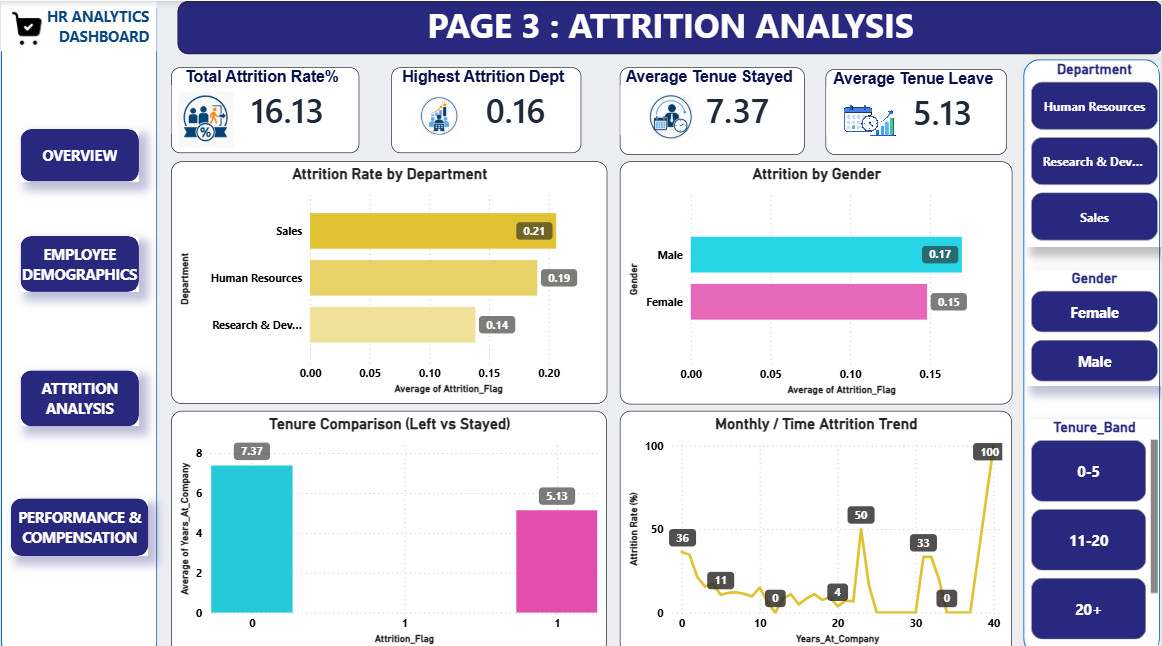

Layout of this report page (visuals, bound fields, positions):
{"tool":"powerbi","page":{"name":"Page 3","canvas":[1280,720],"ordinal":2},"visuals":[{"type":"shape","box":[0,0,172.3,720.6],"z":0},{"type":"textbox","box":[195.1,0,1087.8,58.5],"z":1000},{"type":"cardVisual","title":"Total Attrition Rate%","fields":{"Data":["Excel_HR_Cleaned_Data.Attrition Rate (%)"]},"box":[187.5,73.2,226.8,94.7],"z":2000},{"type":"cardVisual","title":"Average Tenue Stayed","fields":{"Data":["Excel_HR_Cleaned_Data.AverageTenure_Stayed"]},"box":[741.2,73.2,244.7,96.4],"z":3000},{"type":"cardVisual","title":"Highest Attrition Dept","fields":{"Data":["Excel_HR_Cleaned_Data.Department with Highest Attrition"]},"box":[460.8,73.2,234,94.7],"z":4000},{"type":"cardVisual","title":"Average Tenue Leave","fields":{"Data":["Excel_HR_Cleaned_Data.AverageTenure_Left"]},"box":[1046.5,73.2,232.2,94.7],"z":5000},{"type":"clusteredBarChart","title":"Attrition Rate by Department","fields":{"Category":["Excel_HR_Cleaned_Data.Department"],"Y":["Avg(Excel_HR_Cleaned_Data.Attrition_Flag)"]},"box":[187.5,176.8,542,267],"z":6000},{"type":"clusteredBarChart","title":"Attrition by Gender","fields":{"Category":["Excel_HR_Cleaned_Data.Gender"],"Y":["Avg(Excel_HR_Cleaned_Data.Attrition_Flag)"]},"box":[739.4,176.8,541.1,267.9],"z":7000},{"type":"clusteredColumnChart","title":"Tenure Comparison (Left vs Stayed)","fields":{"Category":["Excel_HR_Cleaned_Data.Attrition_Flag"],"Y":["Avg(Excel_HR_Cleaned_Data.Years_At_Company)"]},"box":[187.5,451.8,541.1,267.9],"z":8000},{"type":"lineChart","title":"Monthly / Time Attrition Trend","fields":{"Category":["Excel_HR_Cleaned_Data.Years_At_Company"],"Y":["Excel_HR_Cleaned_Data.Attrition Rate (%)"]},"box":[739.4,451.8,539.3,267.9],"z":9000},{"type":"actionButton","box":[12.4,548.9,148.3,63.5],"z":10000},{"type":"actionButton","box":[10.6,407.7,148.3,61.8],"z":11000},{"type":"actionButton","box":[10.6,259.4,148.3,61.8],"z":12000},{"type":"actionButton","box":[10.6,141.2,148.3,58.2],"z":13000},{"type":"actionButton","box":[0,0,171.4,55.4],"z":14000},{"type":"image","box":[195.3,94.7,61.9,71.5],"z":15000},{"type":"image","box":[473.3,94.7,62.5,73.2],"z":16000},{"type":"image","box":[1060.8,98.2,87.5,67.9],"z":17000},{"type":"listSlicer","fields":{"Values":["Excel_HR_Cleaned_Data.Department"]},"box":[742,2,184,58],"z":18000},{"type":"listSlicer","fields":{"Values":["Excel_HR_Cleaned_Data.Tenure_Band"]},"box":[1124,0,156,60],"z":19000},{"type":"listSlicer","fields":{"Values":["Excel_HR_Cleaned_Data.Gender"]},"box":[940,0,170,60],"z":20000},{"type":"image","box":[771.5,98.2,62.5,67.9],"z":20001}]}

Visuals, with their boxes on the page's 1280x720 design canvas (x1, y1, x2, y2). These are canvas units, not pixel positions in the 1162x646 screenshot, which may show the page scaled, cropped or inside an application window:
shape: [x1=0, y1=0, x2=172, y2=721]
textbox: [x1=195, y1=0, x2=1283, y2=58]
"Total Attrition Rate%" cardVisual: [x1=188, y1=73, x2=414, y2=168]
"Average Tenue Stayed" cardVisual: [x1=741, y1=73, x2=986, y2=170]
"Highest Attrition Dept" cardVisual: [x1=461, y1=73, x2=695, y2=168]
"Average Tenue Leave" cardVisual: [x1=1046, y1=73, x2=1279, y2=168]
"Attrition Rate by Department" clusteredBarChart: [x1=188, y1=177, x2=730, y2=444]
"Attrition by Gender" clusteredBarChart: [x1=739, y1=177, x2=1280, y2=445]
"Tenure Comparison (Left vs Stayed)" clusteredColumnChart: [x1=188, y1=452, x2=729, y2=720]
"Monthly / Time Attrition Trend" lineChart: [x1=739, y1=452, x2=1279, y2=720]
actionButton: [x1=12, y1=549, x2=161, y2=612]
actionButton: [x1=11, y1=408, x2=159, y2=470]
actionButton: [x1=11, y1=259, x2=159, y2=321]
actionButton: [x1=11, y1=141, x2=159, y2=199]
actionButton: [x1=0, y1=0, x2=171, y2=55]
image: [x1=195, y1=95, x2=257, y2=166]
image: [x1=473, y1=95, x2=536, y2=168]
image: [x1=1061, y1=98, x2=1148, y2=166]
listSlicer - Excel_HR_Cleaned_Data.Department: [x1=742, y1=2, x2=926, y2=60]
listSlicer - Excel_HR_Cleaned_Data.Tenure_Band: [x1=1124, y1=0, x2=1280, y2=60]
listSlicer - Excel_HR_Cleaned_Data.Gender: [x1=940, y1=0, x2=1110, y2=60]
image: [x1=772, y1=98, x2=834, y2=166]
